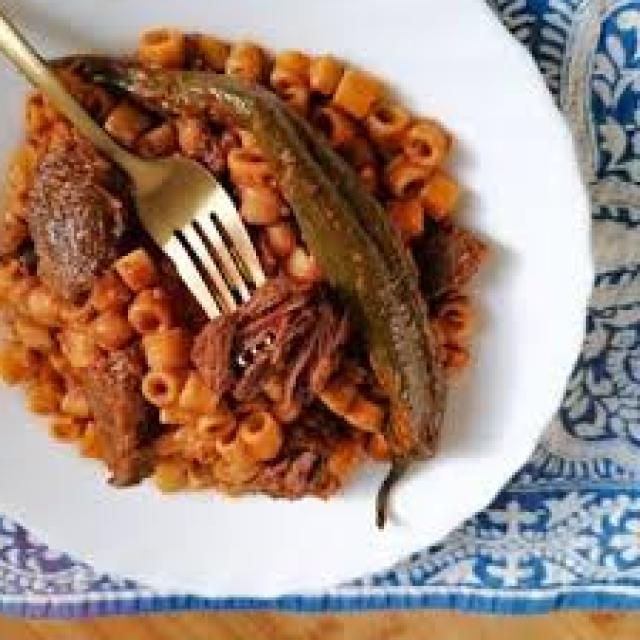Pasta: (0, 33, 505, 541)
